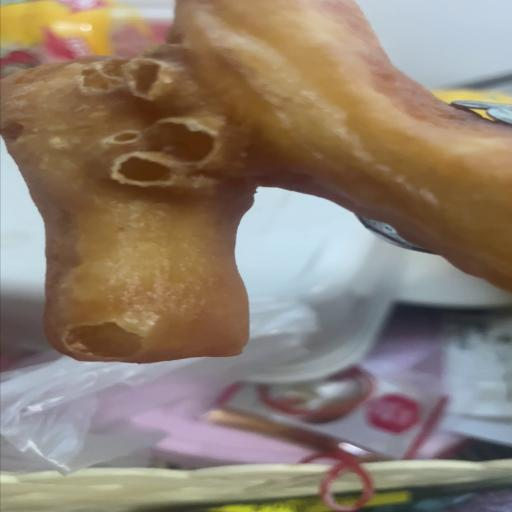street_burnt_defect: (2, 0, 510, 358)
